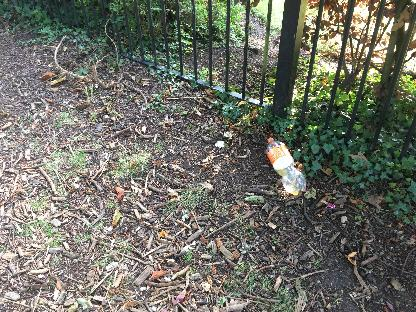Plastic Bottle: (267, 138, 307, 194)
